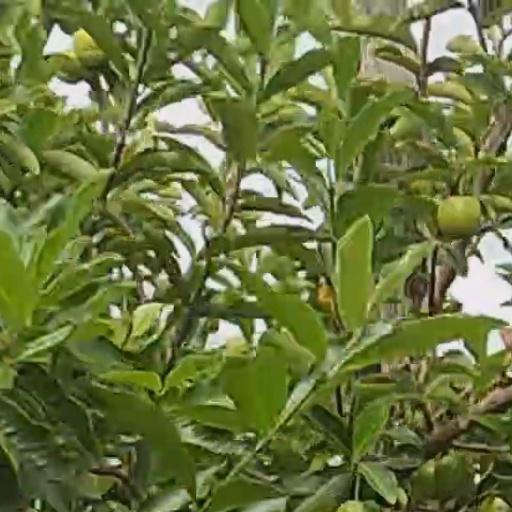acerola: (437, 197, 485, 238)
